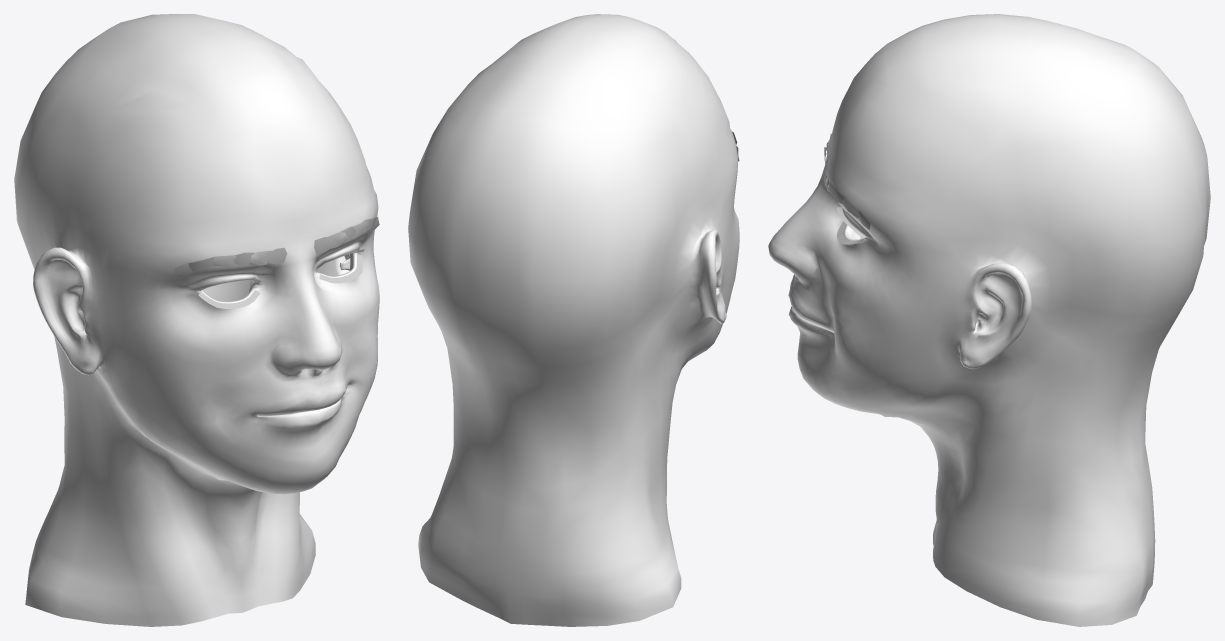
File: mouthDimpleLeft.obj
3 views of the same model, side by side, from view 1: azimuth 30°, elevation 25°; view 2: azimuth 150°, elevation 25°; view 3: azimuth 270°, elevation 25° (orthographic). The views are drawn at different scales.
Visible parts, largest first — view 1: FaceMesh_Plane.003; view 2: FaceMesh_Plane.003; view 3: FaceMesh_Plane.003.
Part boxes in pixels (left/top/right/bottom): FaceMesh_Plane.003: left=14, top=14, right=379, bottom=626; FaceMesh_Plane.003: left=408, top=14, right=739, bottom=626; FaceMesh_Plane.003: left=768, top=14, right=1210, bottom=626.
Size of the model in its own units: 1.54 by 2.71 by 1.94.
Materials: 5 (1 with a texture image).
